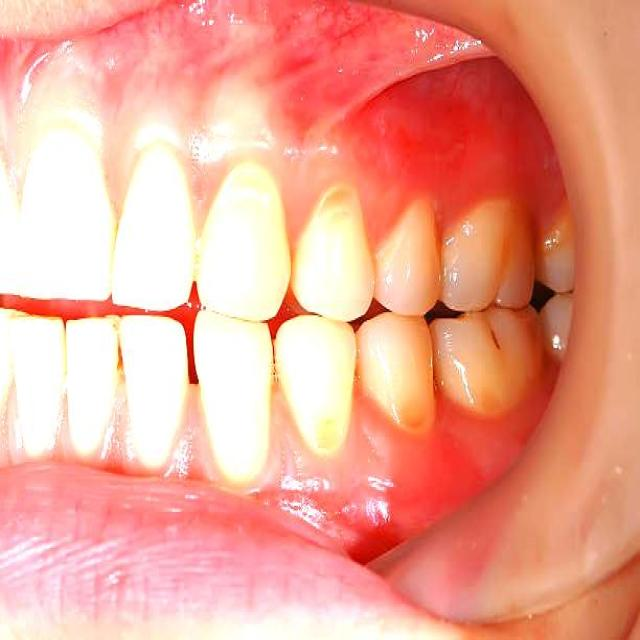caries: (306, 164, 367, 247), (384, 382, 439, 450)
